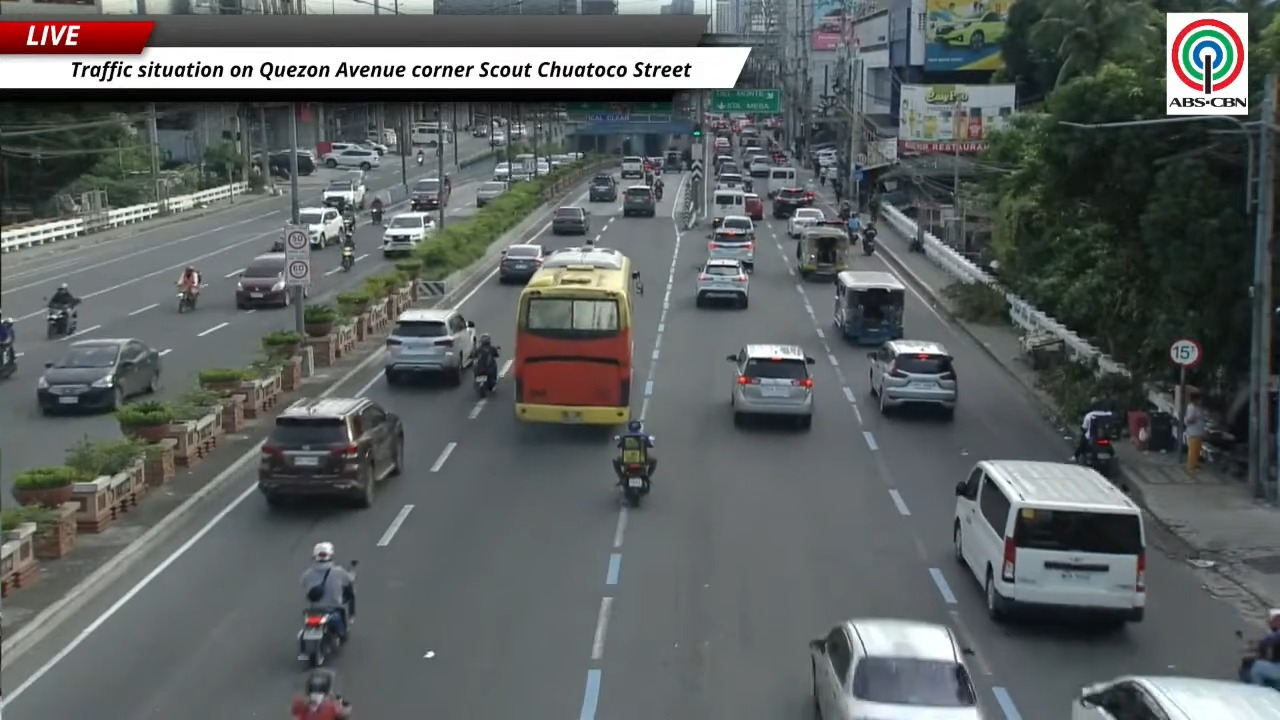bus: (513, 246, 637, 425), (410, 122, 452, 145)
car: (952, 460, 1146, 627), (809, 618, 983, 719), (257, 397, 404, 507), (37, 338, 160, 414), (1070, 676, 1279, 719), (727, 344, 814, 429), (384, 308, 476, 385), (868, 340, 957, 419), (235, 252, 291, 308), (932, 12, 1006, 50), (696, 258, 749, 308), (707, 216, 753, 272), (381, 212, 435, 257), (498, 243, 545, 283), (299, 207, 343, 248), (322, 170, 366, 208), (410, 177, 451, 211), (323, 147, 380, 170), (772, 187, 812, 218), (787, 207, 825, 238), (552, 206, 589, 234), (623, 185, 656, 216), (717, 215, 755, 240), (476, 180, 508, 207), (588, 173, 617, 201), (267, 150, 291, 177), (715, 174, 752, 191), (744, 193, 764, 221), (620, 156, 644, 179), (748, 156, 771, 178), (358, 140, 388, 155), (714, 154, 734, 174), (548, 154, 573, 170), (509, 166, 532, 183), (717, 161, 741, 176), (528, 161, 551, 176), (493, 163, 511, 181), (713, 136, 731, 152), (742, 144, 763, 157), (471, 123, 489, 137), (489, 132, 506, 146)
motorcycle: (298, 609, 341, 667), (1075, 437, 1117, 478), (615, 461, 649, 507), (46, 307, 77, 338), (473, 362, 496, 398), (0, 340, 16, 378), (177, 289, 198, 313), (341, 245, 354, 271), (862, 229, 875, 255), (343, 214, 355, 236), (370, 206, 383, 226), (908, 235, 923, 252), (271, 237, 284, 252), (416, 154, 424, 166), (1267, 683, 1279, 690)
truck: (323, 172, 366, 208)
